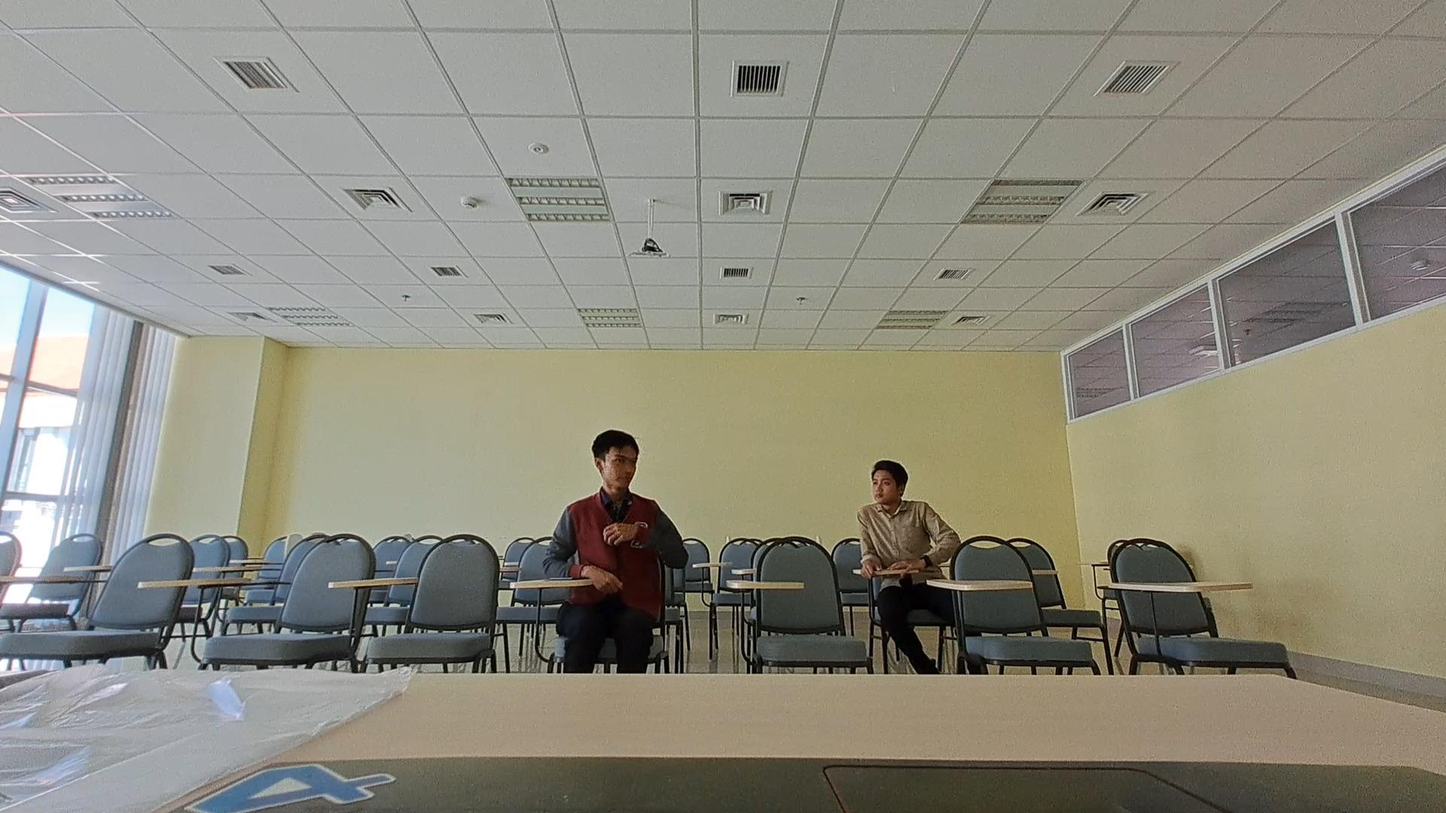study: (543, 418, 690, 582), (855, 455, 963, 573)
